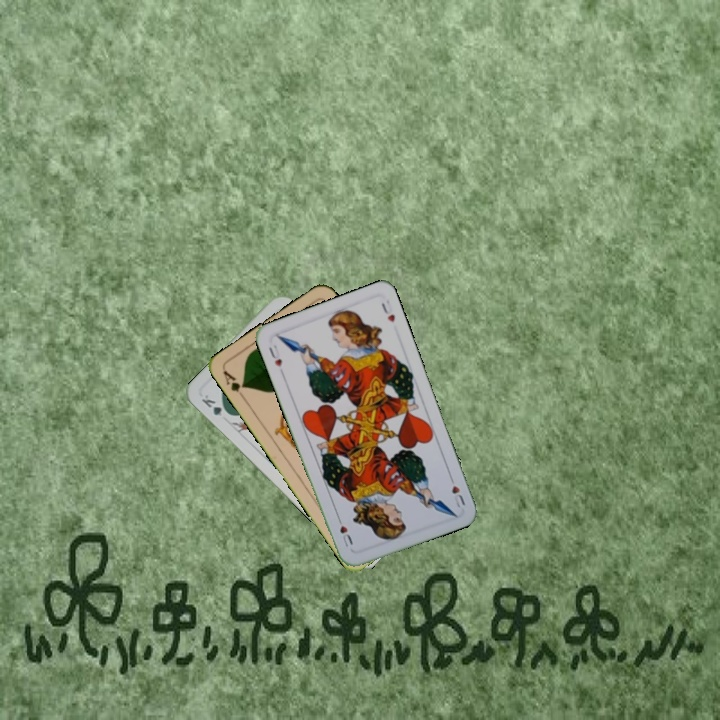GA: (219, 366, 248, 402)
GK: (197, 390, 233, 419)
HU: (445, 471, 468, 510), (265, 340, 285, 370)
